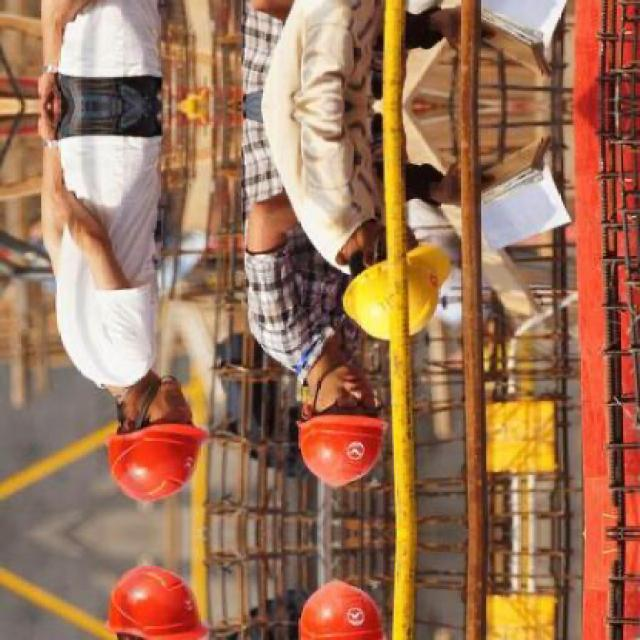con casco: (54, 358, 210, 530), (272, 350, 402, 518), (308, 224, 443, 360)
